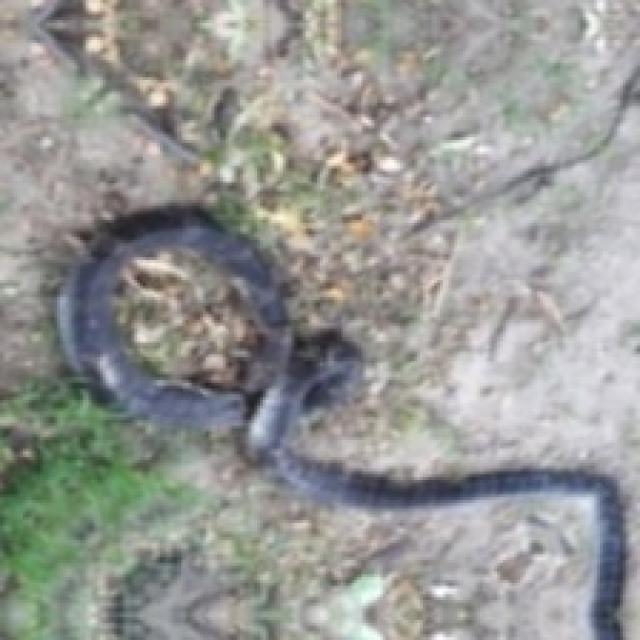king cobra: (57, 206, 620, 637), (111, 246, 274, 394)
